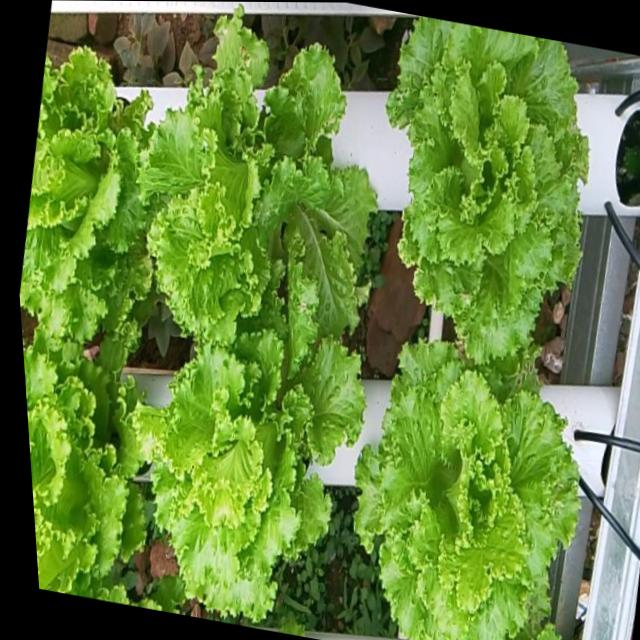Mature: (141, 16, 387, 339), (385, 19, 587, 369), (134, 330, 364, 623), (354, 341, 579, 640), (19, 50, 151, 345), (23, 320, 144, 596)
